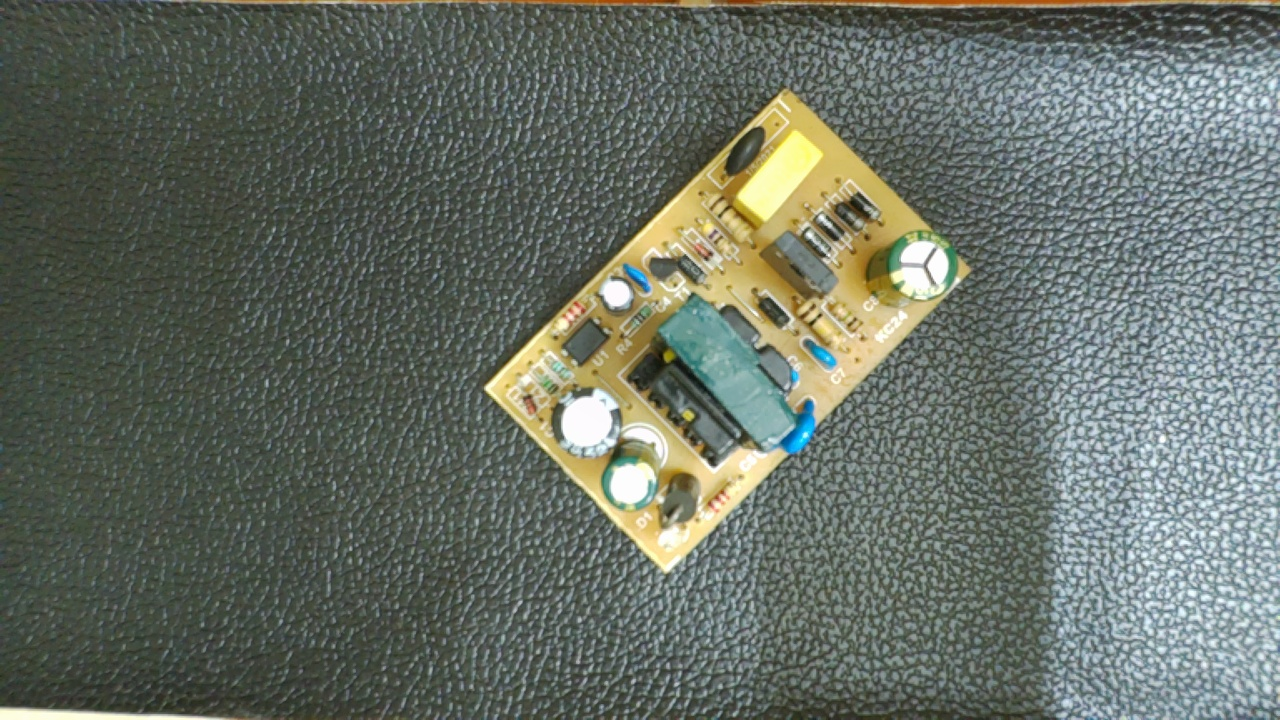fuse: (726, 126, 767, 174)
hv_capacitor: (864, 228, 956, 303)
mov: (785, 398, 819, 455)
optocoupler: (555, 318, 609, 366)
